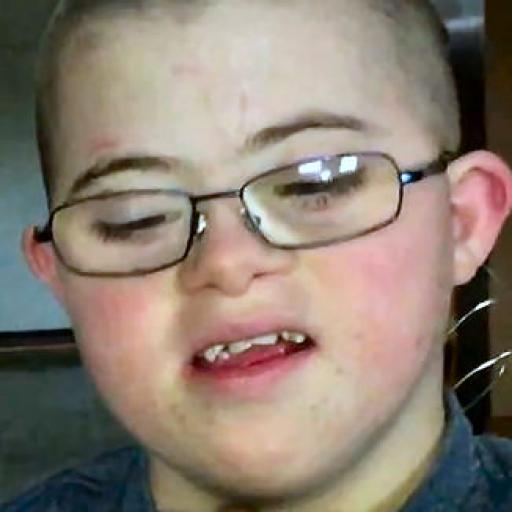Autism: (6, 8, 512, 498)
